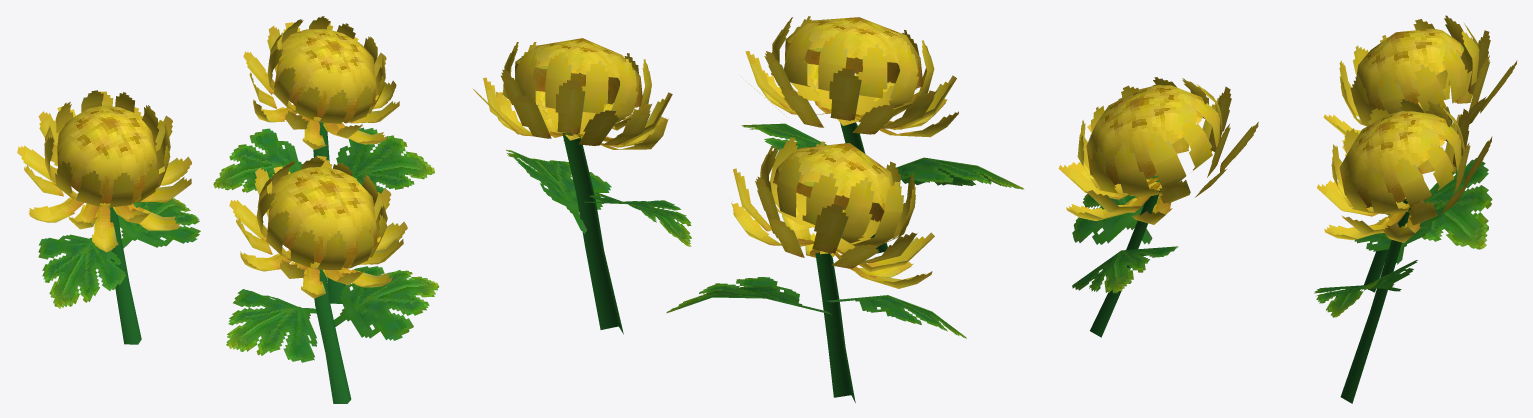
File: yellow-mums.glb
The picture shows the model from 3 angles, left to right: view 1: azimuth 30°, elevation 25°; view 2: azimuth 150°, elevation 25°; view 3: azimuth 270°, elevation 25°; orthographic projection. The views are drawn at different scales.
Size of the model in its own units: 9.99 by 6.47 by 9.28.
Materials: 2 (2 with a texture image).
